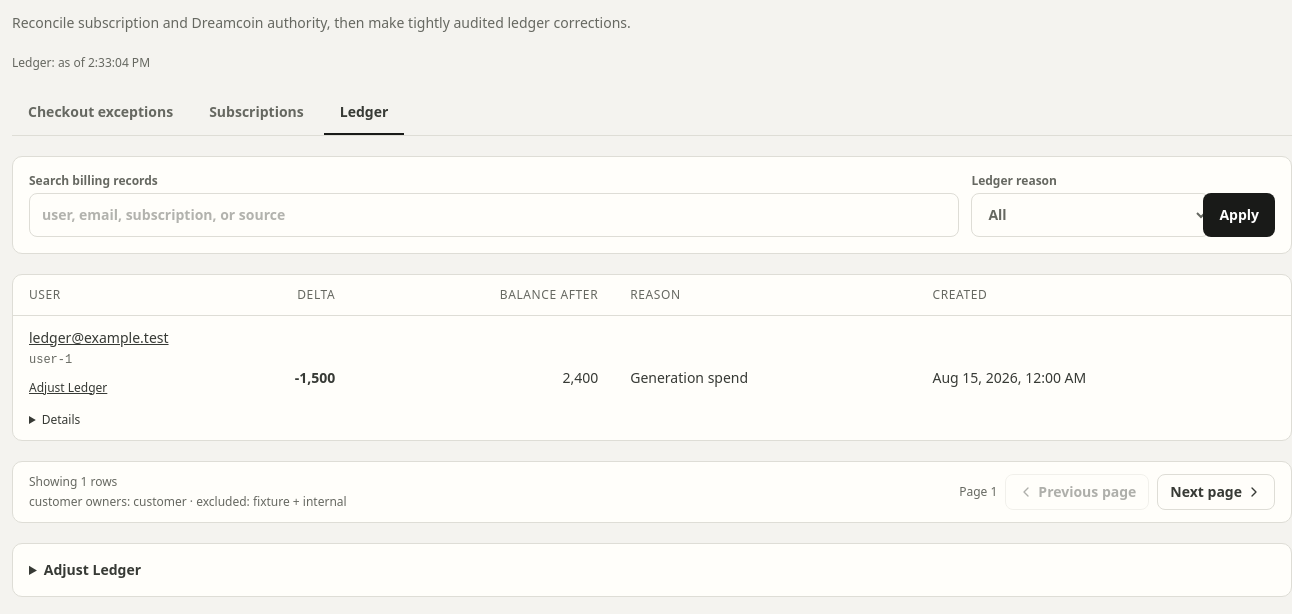
Test case: BillingWorkspace ledger pagination › walks forward on the authority cursor and back again to the same page
The image size is (1292, 614).
Step 1. Click the button "Next page" → (1216, 492), box [1157,474,1275,510]
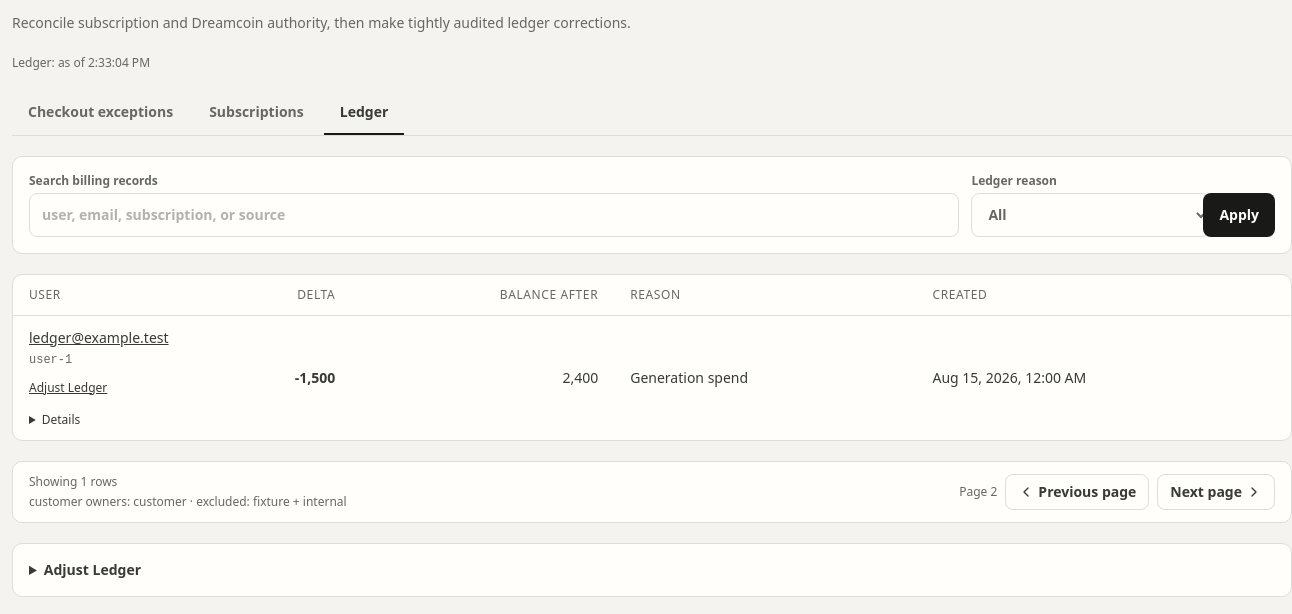
Check: the button "Previous page" is enabled
Check: the text "Page 2" is shown, box [959,484,997,500]
Step 2. Click the button "Previous page" → (1077, 492), box [1005,474,1149,510]
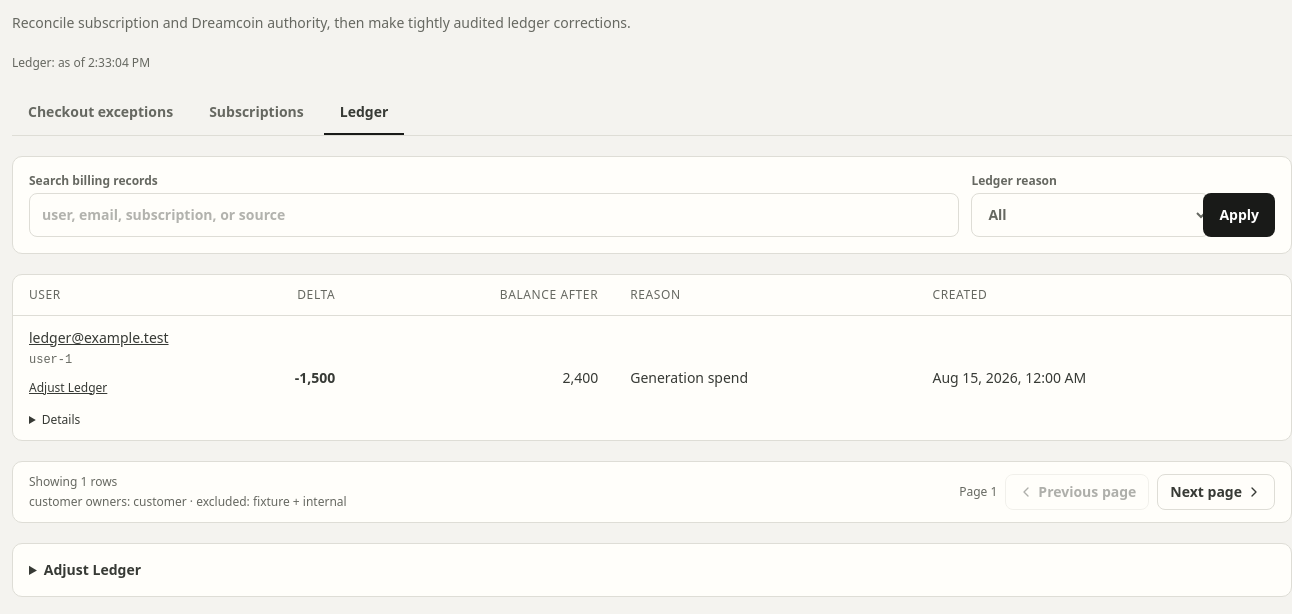
Check: the button "Previous page" is disabled, box [1005,474,1149,510]
Check: the text "Page 1" is shown, box [959,484,997,500]
